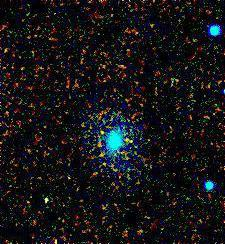star: (89, 118, 119, 148)
